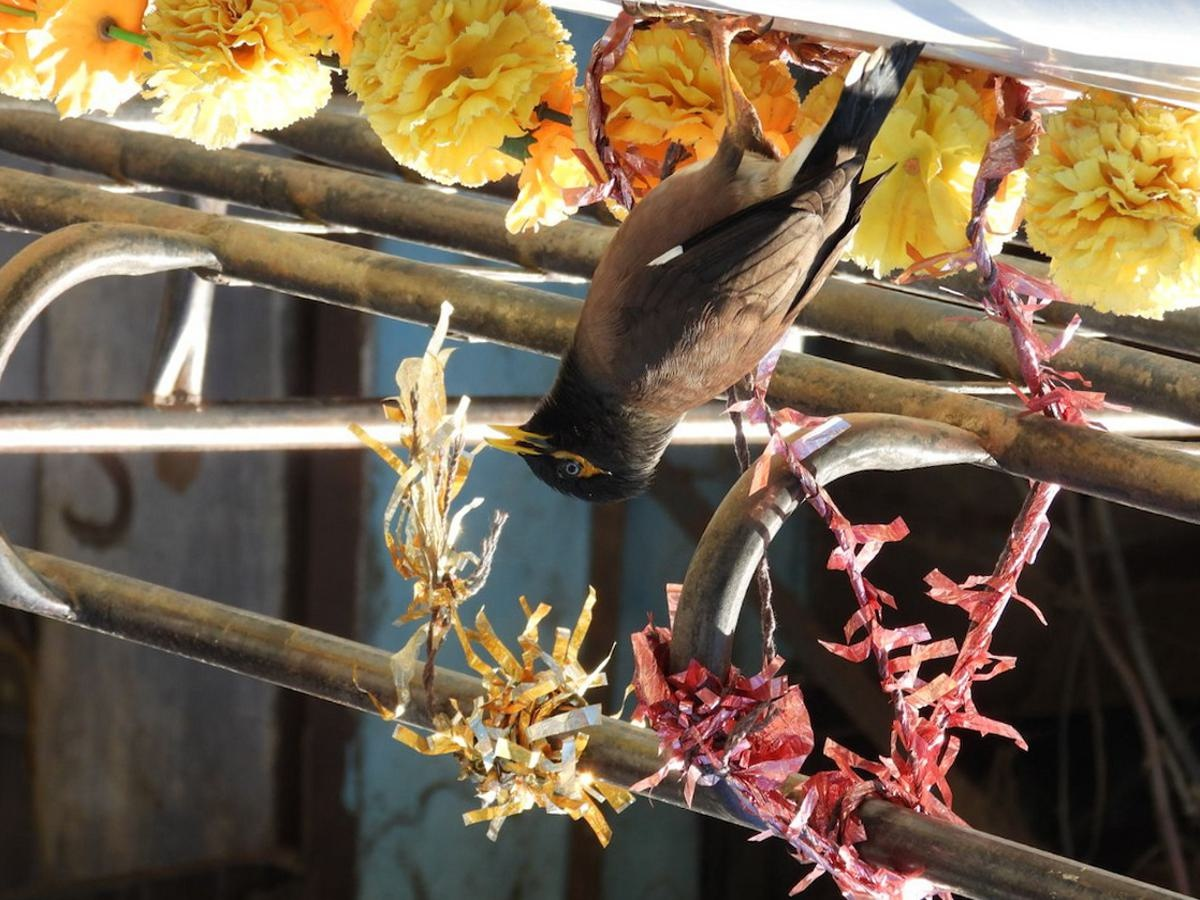myna: (474, 37, 936, 505)
